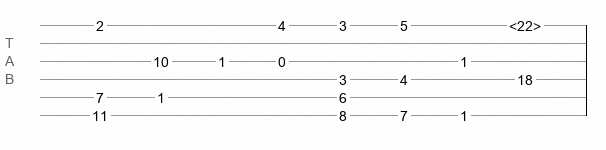0: (278, 54, 286, 64)
1: (157, 90, 165, 100), (218, 54, 226, 64), (460, 108, 468, 118), (460, 54, 468, 64)
10: (153, 54, 169, 64)
11: (92, 108, 108, 118)
18: (517, 72, 533, 82)
2: (96, 18, 104, 28)
3: (339, 18, 347, 28), (339, 72, 347, 82)
4: (278, 18, 286, 28), (400, 72, 408, 82)
5: (400, 18, 408, 28)
6: (339, 90, 347, 100)
7: (96, 90, 104, 100), (400, 108, 408, 118)
8: (339, 108, 347, 118)
harmonic: (509, 18, 541, 28)
